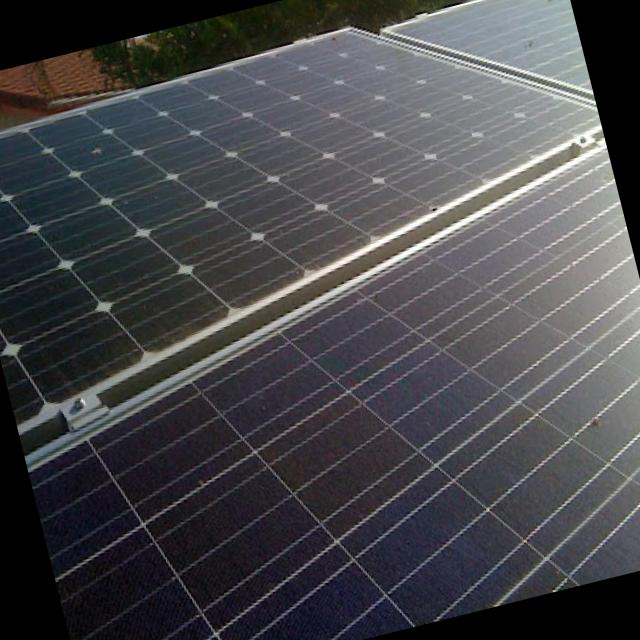faulty: (34, 152, 640, 640), (0, 36, 596, 420)
